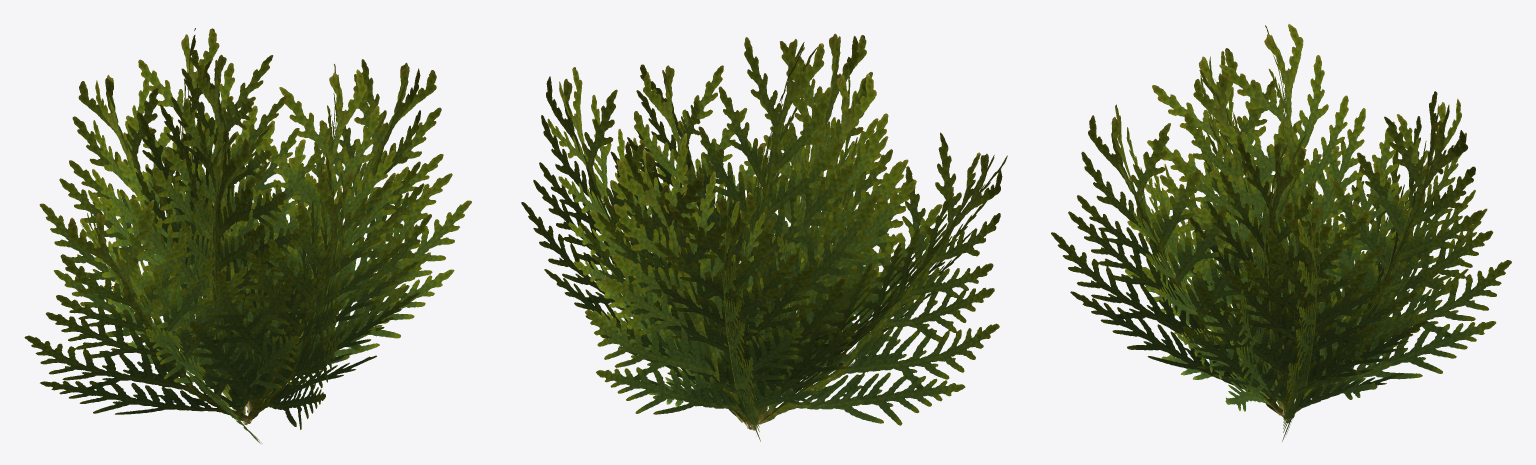
The model's file is s_bush.glb.
3 renders of one model, left to right at view 1: azimuth 30°, elevation 25°; view 2: azimuth 150°, elevation 25°; view 3: azimuth 270°, elevation 25°, orthographic. The views are drawn at different scales.
Size of the model in its own units: 0.5778 by 0.4731 by 0.5205.
1 material, 1 textured.
